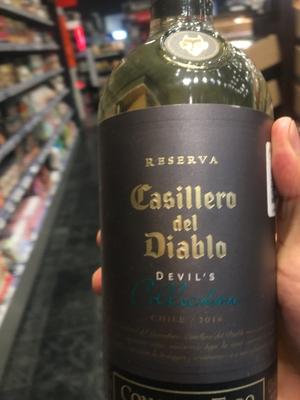casillero del diablo devils collection verde: (85, 10, 294, 400)
